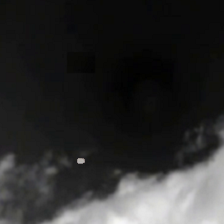Target: (75, 157, 86, 165)
